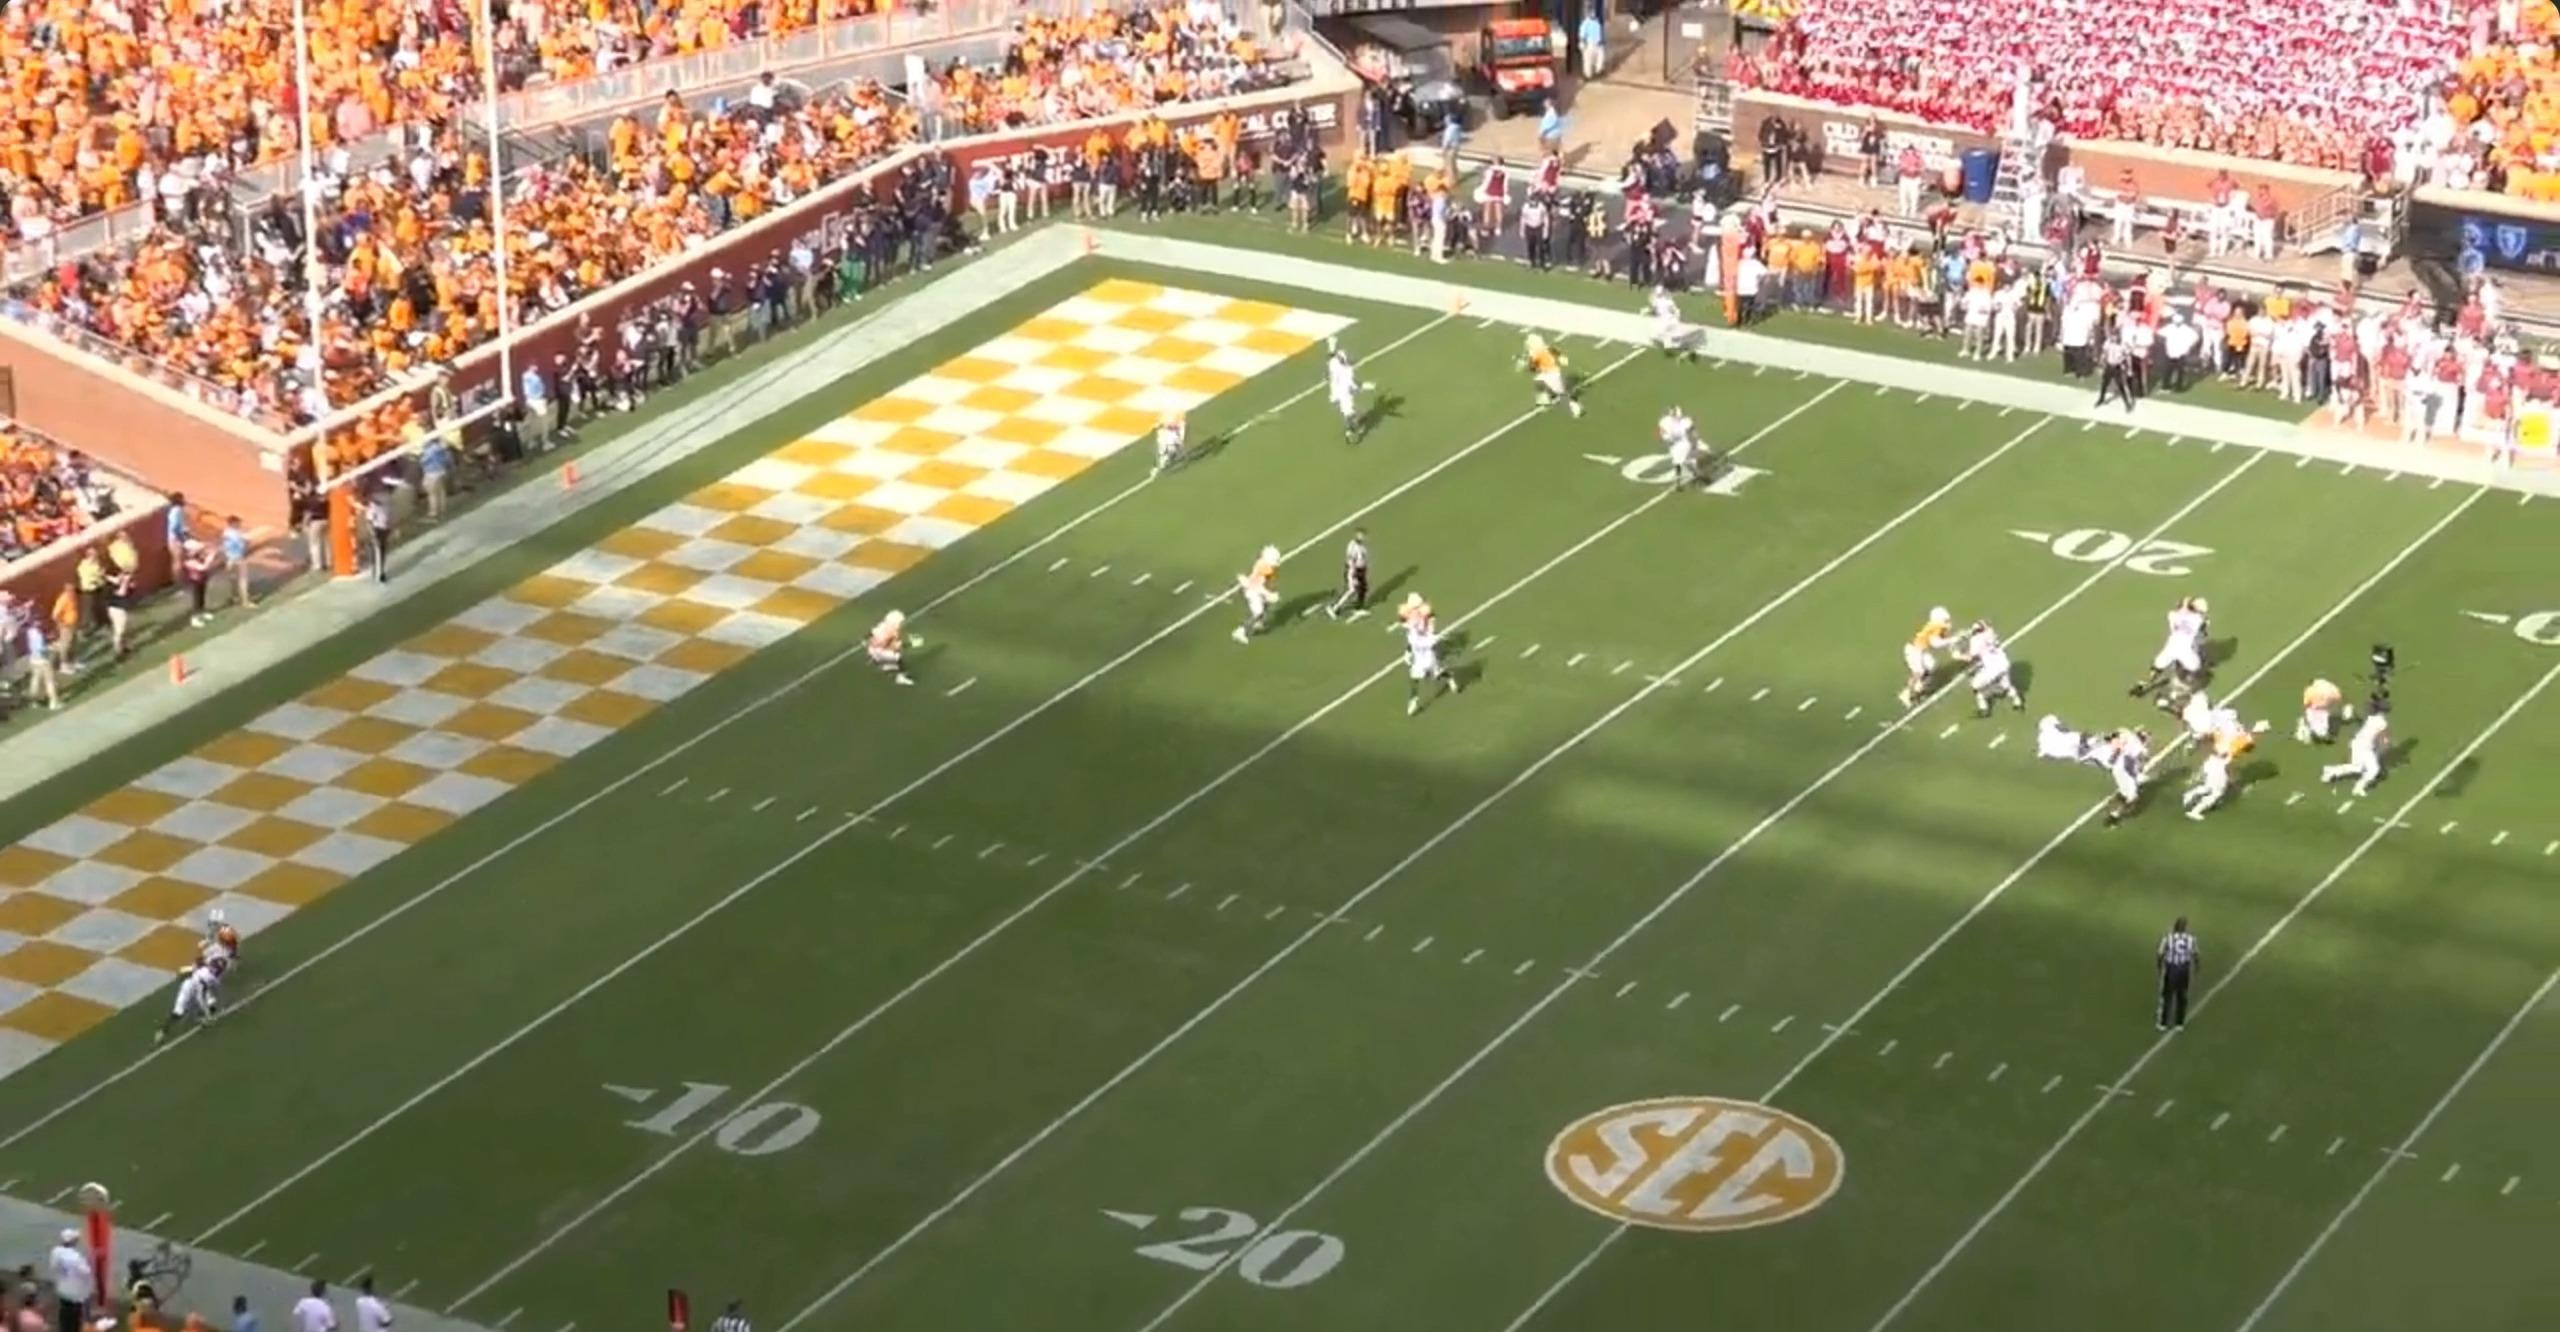defense: (2186, 699, 2265, 821), (1894, 610, 1954, 716), (1522, 331, 1590, 424), (1231, 540, 1285, 647), (185, 913, 240, 1017), (865, 609, 925, 692), (2298, 674, 2356, 747), (1386, 591, 1437, 666), (2082, 716, 2140, 777), (1149, 402, 1188, 483), (2191, 588, 2216, 619)
oline: (2083, 725, 2161, 833), (2129, 597, 2208, 698), (1955, 618, 2035, 717), (2163, 691, 2252, 740), (2031, 712, 2105, 769)
qb: (2323, 702, 2399, 800)
ref: (2146, 917, 2205, 1039), (352, 478, 403, 588), (2094, 319, 2147, 420), (1329, 527, 1374, 626), (703, 1297, 772, 1332)
skill: (149, 952, 236, 1048), (1648, 401, 1709, 492), (1400, 624, 1460, 716), (1327, 344, 1375, 445), (1649, 287, 1694, 365)
